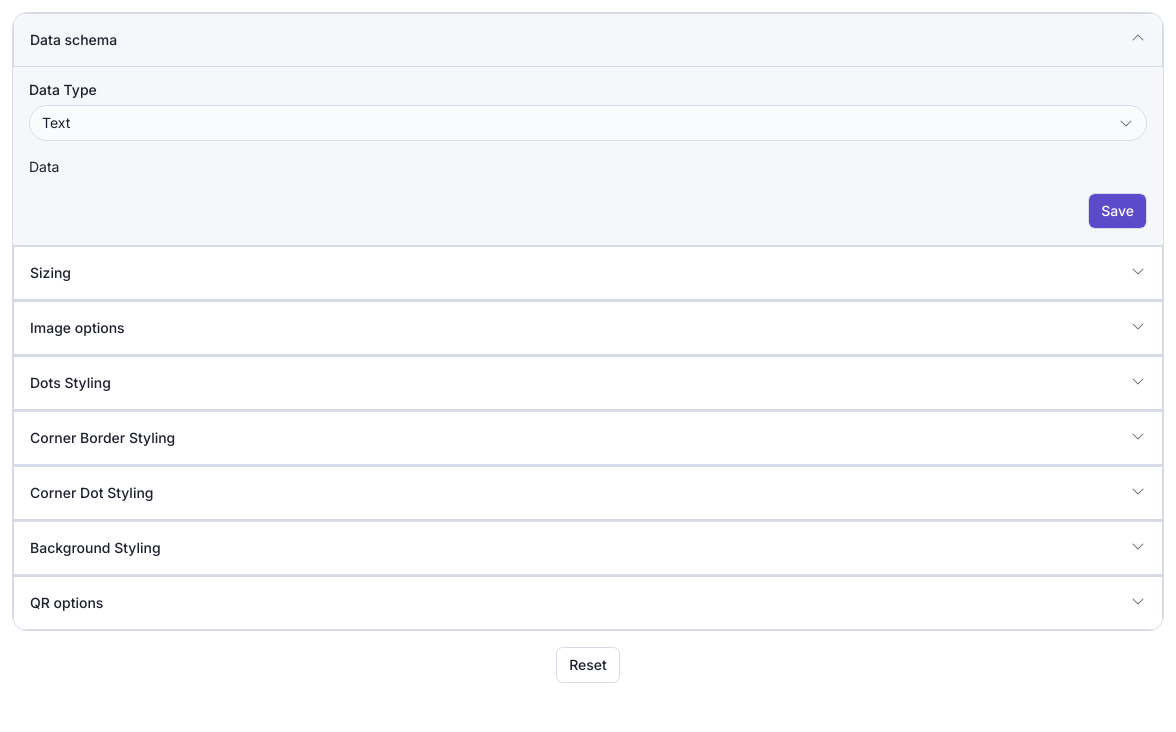
<QrForm /> › clearing width applies the minimum value
Click the button with test id "qr-sizing-trigger". click: [51, 272]
box: [13,246,1163,300]
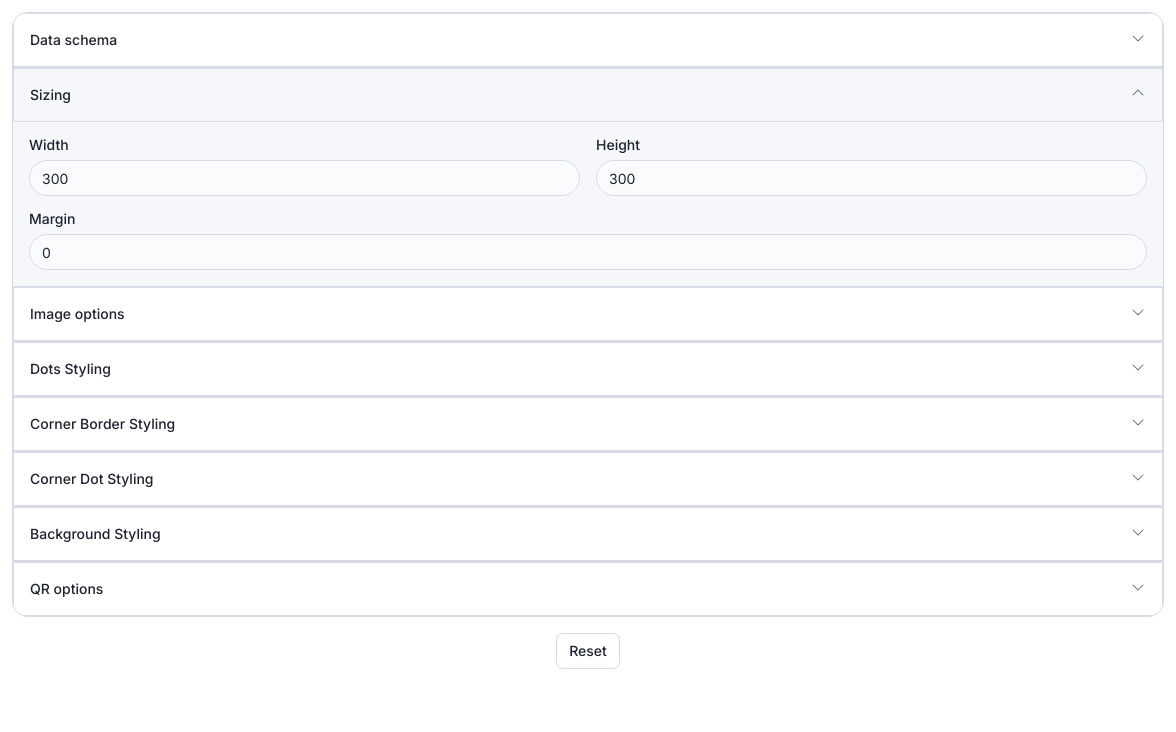
Clear the number field with test id "qr-width". click: [304, 178]
box: [29,160,580,196]
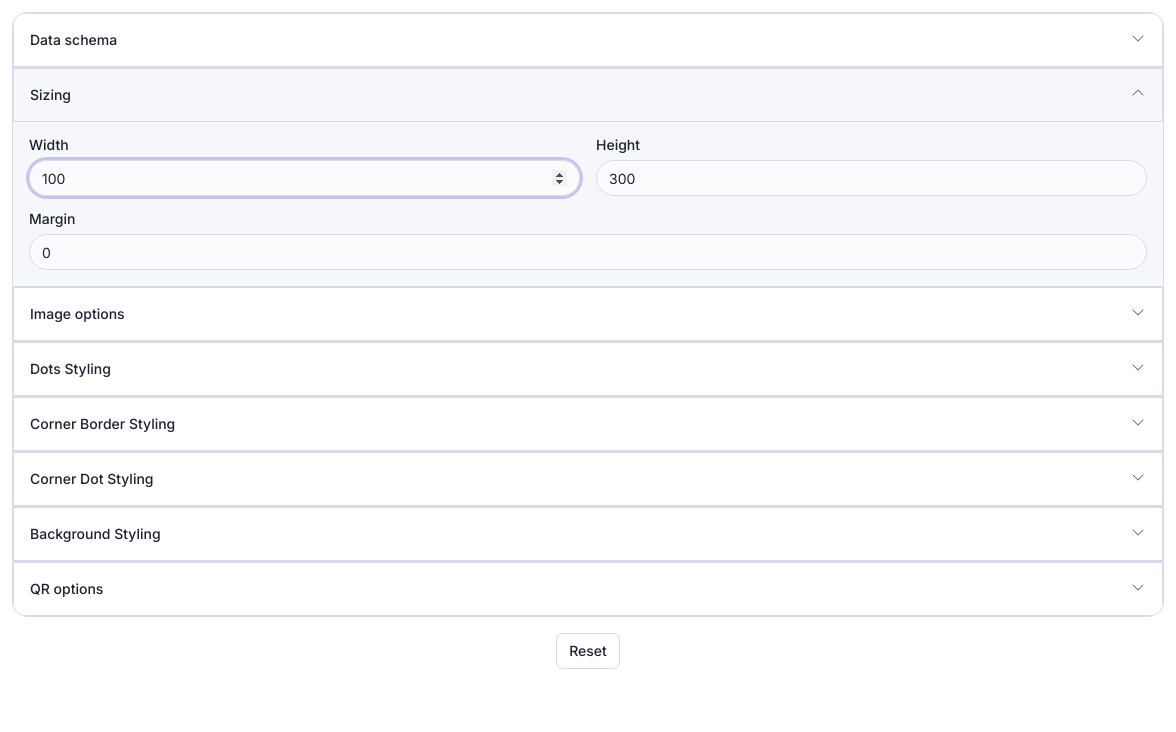
Check: the number field with test id "qr-width" holds "100", box [29,160,580,196]
